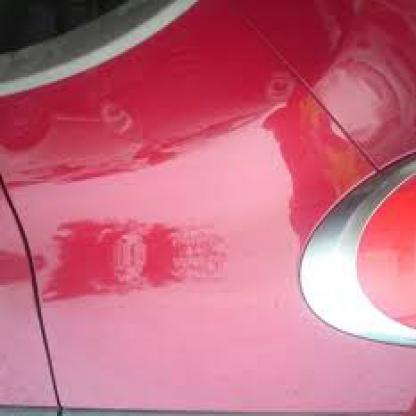dent: (307, 30, 410, 154)
